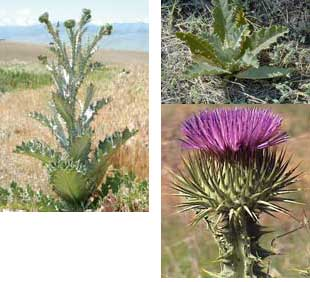thistle: (177, 108, 299, 229)
